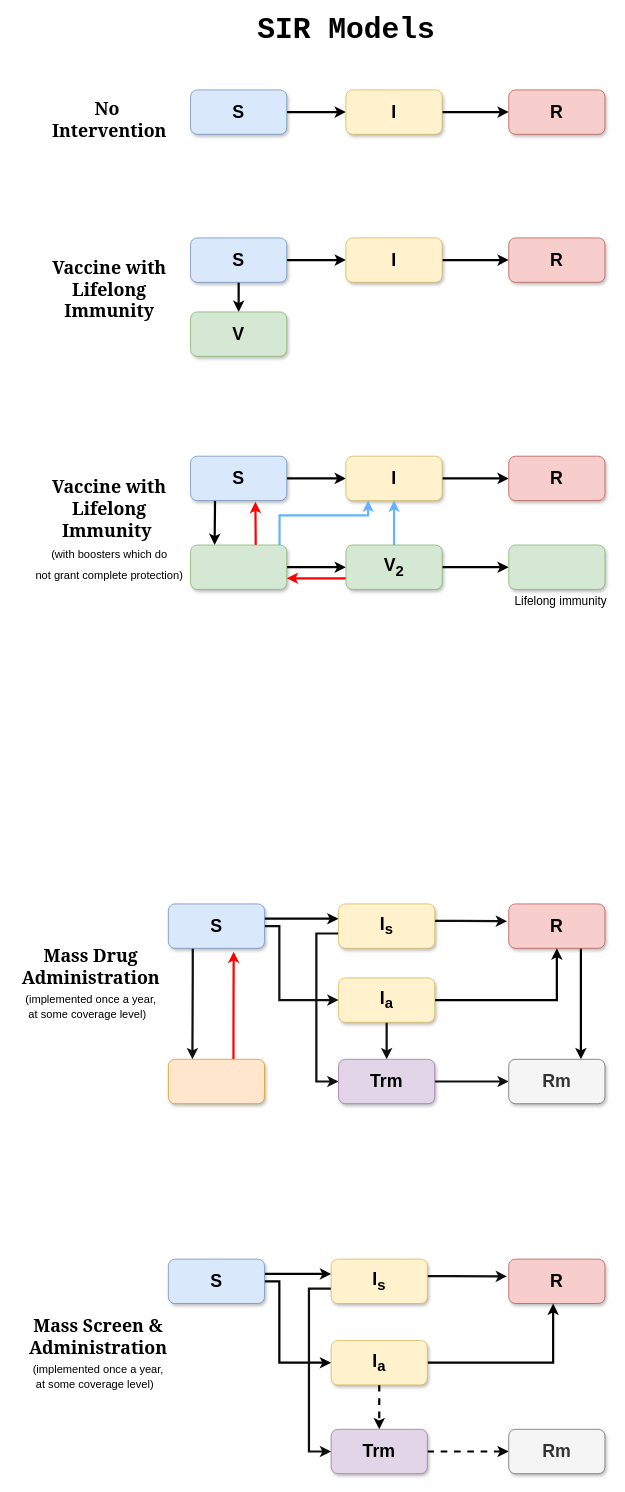
Image size: 625x1492. Some labels were removed from this diagram. The centre of each missing label's shape, as x and y in pixels:
Sm: point 217,1082
V 1: point 239,568
V 3: point 557,568
